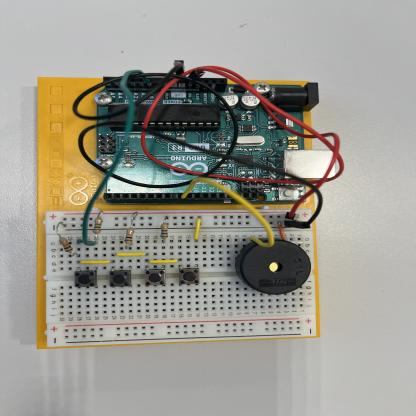5V: (141, 67, 321, 184)
ARDUINO: (101, 79, 306, 203)
Breadboard: (47, 210, 317, 350)
Button: (74, 271, 96, 288), (109, 270, 131, 287), (145, 269, 165, 286), (179, 268, 199, 285)
GND: (79, 120, 227, 188), (74, 73, 172, 120)
Long wire: (181, 177, 274, 248)
Piezo: (235, 239, 311, 295)
Resistor: (54, 222, 75, 257), (124, 212, 138, 249), (92, 211, 103, 235), (160, 216, 168, 243)
Short wire: (194, 217, 201, 242), (278, 222, 286, 240), (115, 253, 146, 257), (149, 260, 177, 264), (80, 261, 109, 264)
